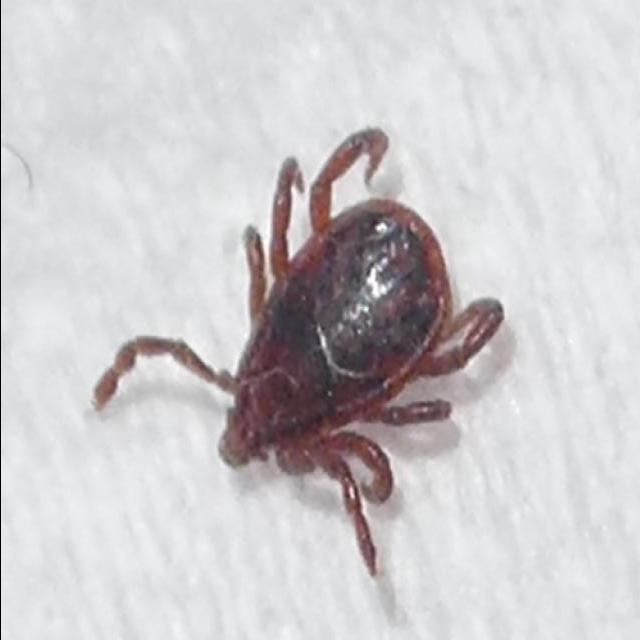Rhipicephalus Sanguineus-M: (88, 126, 503, 576)
